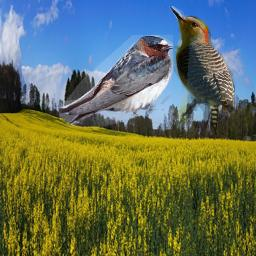Swallow: (59, 35, 173, 127)
Woodpecker: (169, 6, 235, 135)
